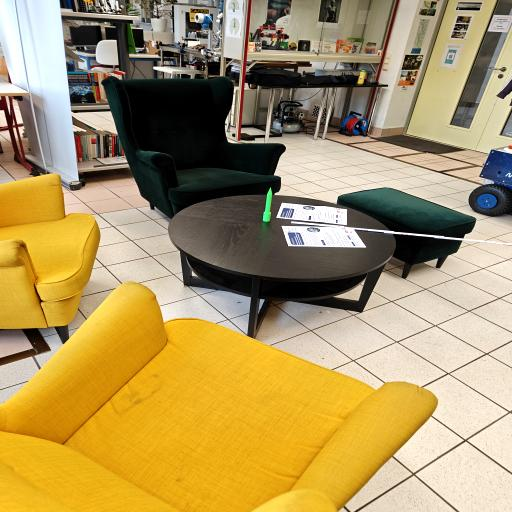Probe-Detection: (262, 188, 272, 222)
